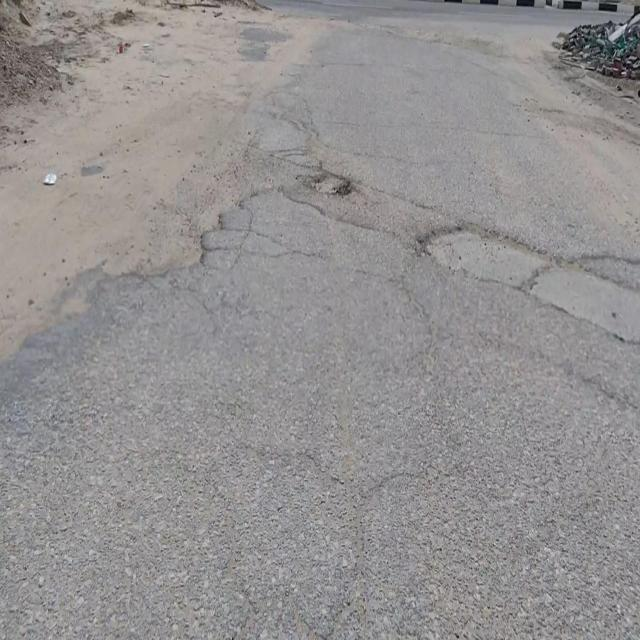Potholes: (99, 198, 244, 283), (413, 220, 559, 297), (301, 169, 361, 203)
